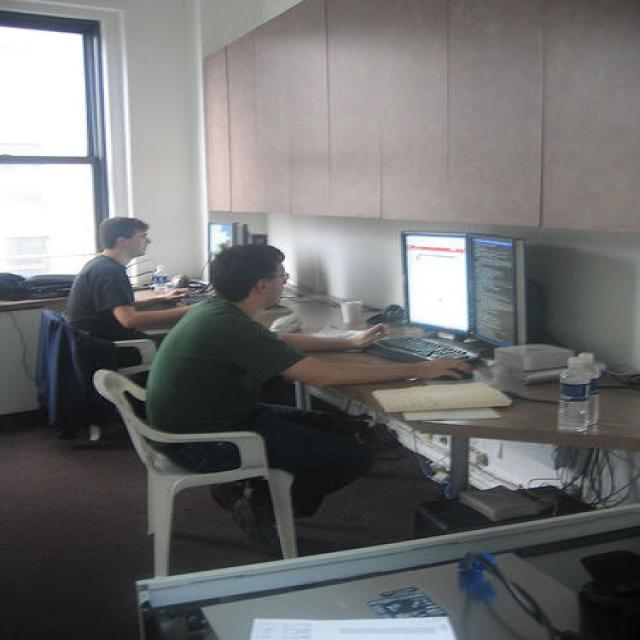bottle: (559, 357, 592, 435), (576, 353, 600, 426), (149, 265, 170, 299)
chair: (93, 368, 298, 582), (42, 309, 160, 449)
person: (143, 243, 476, 555), (66, 218, 192, 333)
tvmonitor: (397, 230, 472, 335), (469, 232, 528, 351), (203, 222, 239, 266)
